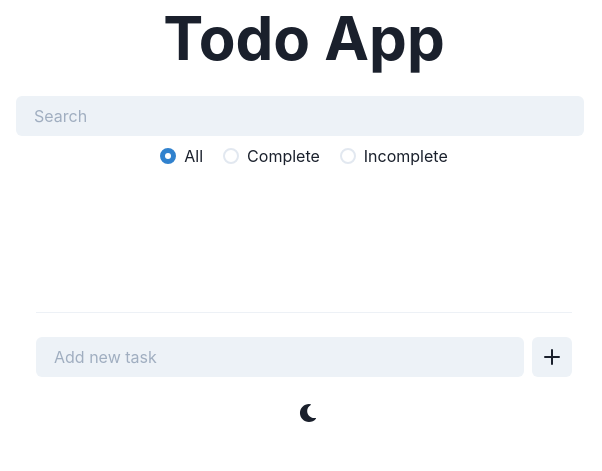
Test case: todo list flows › can add new todo items
Type "Feed the cat" into the field with test id "taskinput-todo-app" at (280, 357), box x1=36 y1=337 x2=524 y2=377
Then press Enter
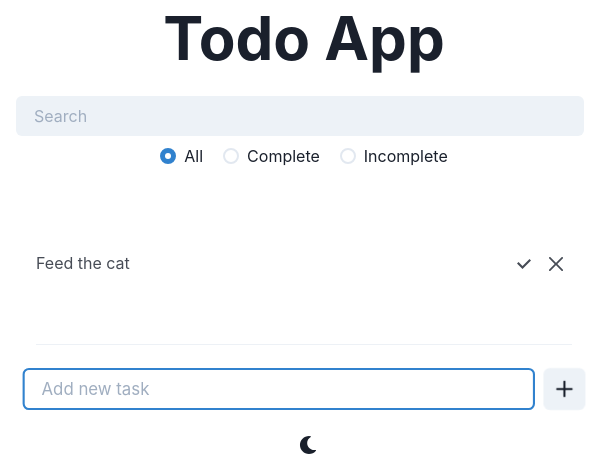
Now the element with test id "taskfieldlist-todoApp" reads "Feed the cat", box x1=36 y1=248 x2=572 y2=280
